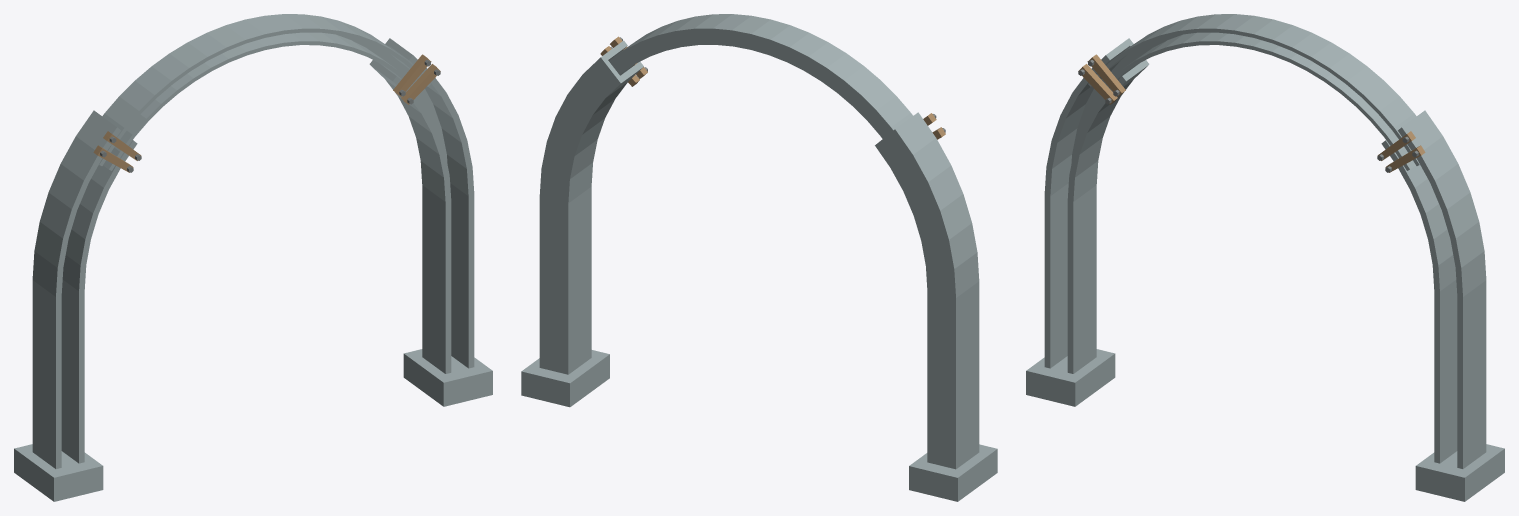
3 views of the same model, side by side, from view 1: azimuth 30°, elevation 25°; view 2: azimuth 150°, elevation 25°; view 3: azimuth 330°, elevation 25° (orthographic).
Visible parts, largest first — view 1: LeftWholeCurvedOpenChannelLeg, RightWholeCurvedOpenChannelLeg, WholeSmallerNestedCrownChannel, LeftWholeGroundPlate, RightWholeGroundPlate; view 2: LeftWholeCurvedOpenChannelLeg, RightWholeCurvedOpenChannelLeg, WholeSmallerNestedCrownChannel, LeftWholeGroundPlate, RightWholeGroundPlate; view 3: RightWholeCurvedOpenChannelLeg, LeftWholeCurvedOpenChannelLeg, WholeSmallerNestedCrownChannel, RightWholeGroundPlate, LeftWholeGroundPlate.
Part boxes in pixels (<box>): LeftWholeCurvedOpenChannelLeg: <box>32,110,137,468</box>; RightWholeCurvedOpenChannelLeg: <box>369,38,474,373</box>; WholeSmallerNestedCrownChannel: <box>99,14,430,170</box>; LeftWholeGroundPlate: <box>14,444,103,501</box>; RightWholeGroundPlate: <box>403,349,492,406</box>; LeftWholeCurvedOpenChannelLeg: <box>875,112,979,469</box>; RightWholeCurvedOpenChannelLeg: <box>539,40,643,374</box>; WholeSmallerNestedCrownChannel: <box>609,14,912,138</box>; LeftWholeGroundPlate: <box>909,444,997,501</box>; RightWholeGroundPlate: <box>521,350,609,407</box>; RightWholeCurvedOpenChannelLeg: <box>1381,110,1486,468</box>; LeftWholeCurvedOpenChannelLeg: <box>1044,38,1149,373</box>; WholeSmallerNestedCrownChannel: <box>1088,14,1419,170</box>; RightWholeGroundPlate: <box>1415,444,1504,501</box>; LeftWholeGroundPlate: <box>1026,349,1115,406</box>.
Bounding box in the file's own units: 3.04 × 2.7 × 0.48.
